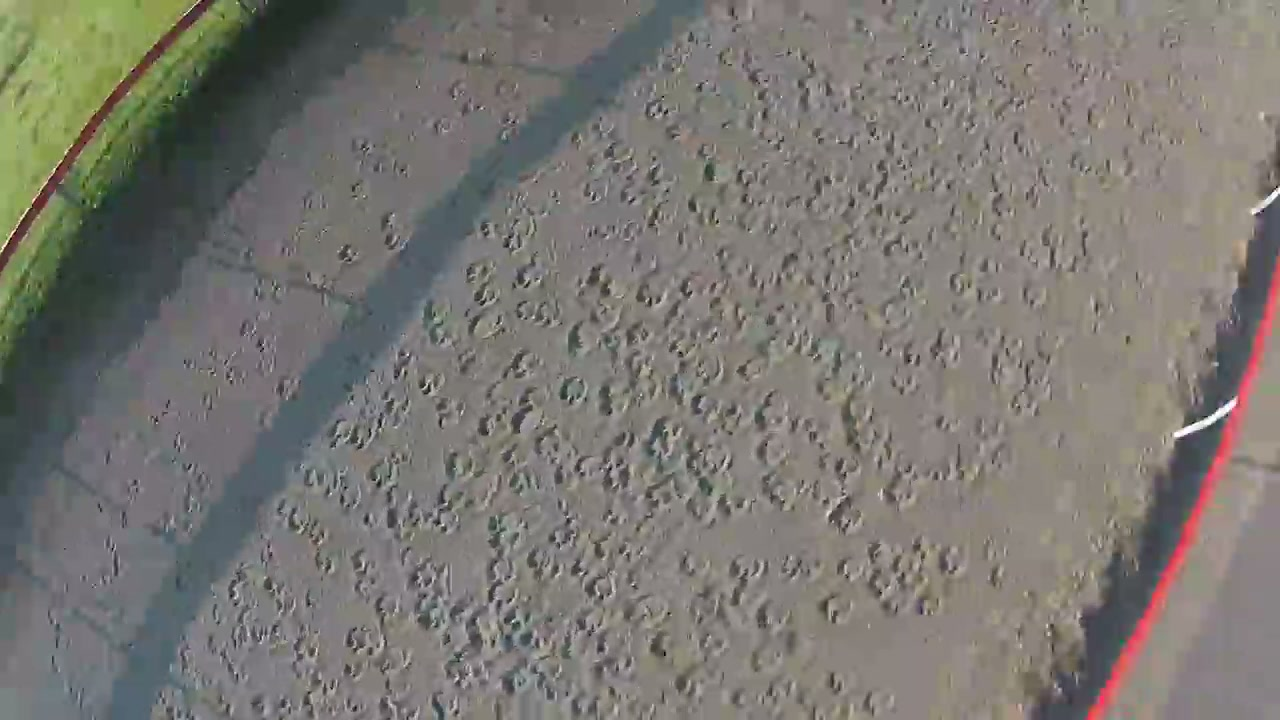animal_footprint: (208, 113, 991, 719), (120, 129, 471, 548)
